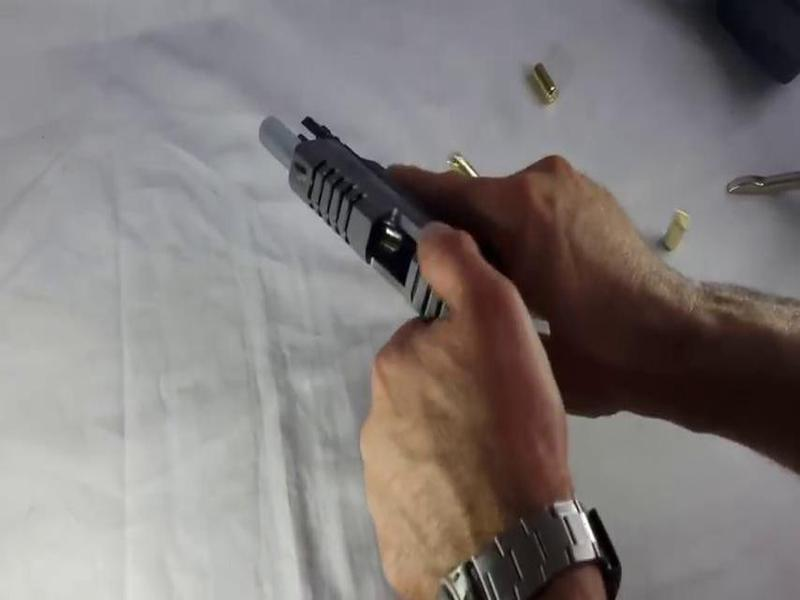Pistola: (259, 94, 526, 360)
